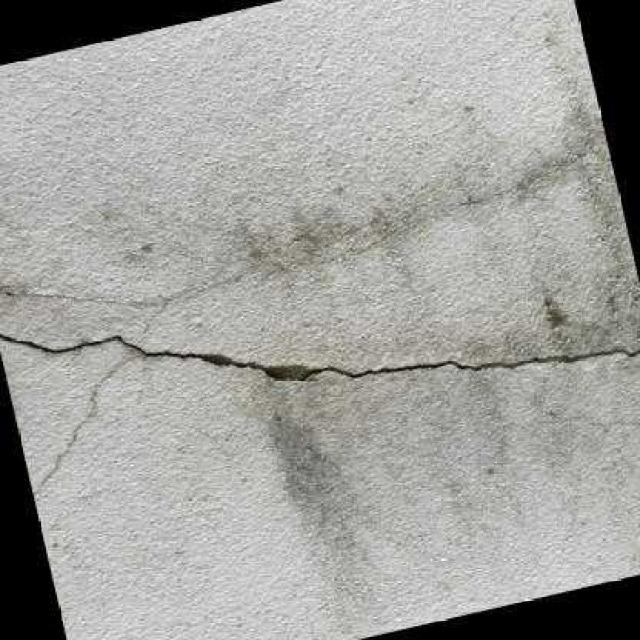D00: (0, 334, 640, 381)
